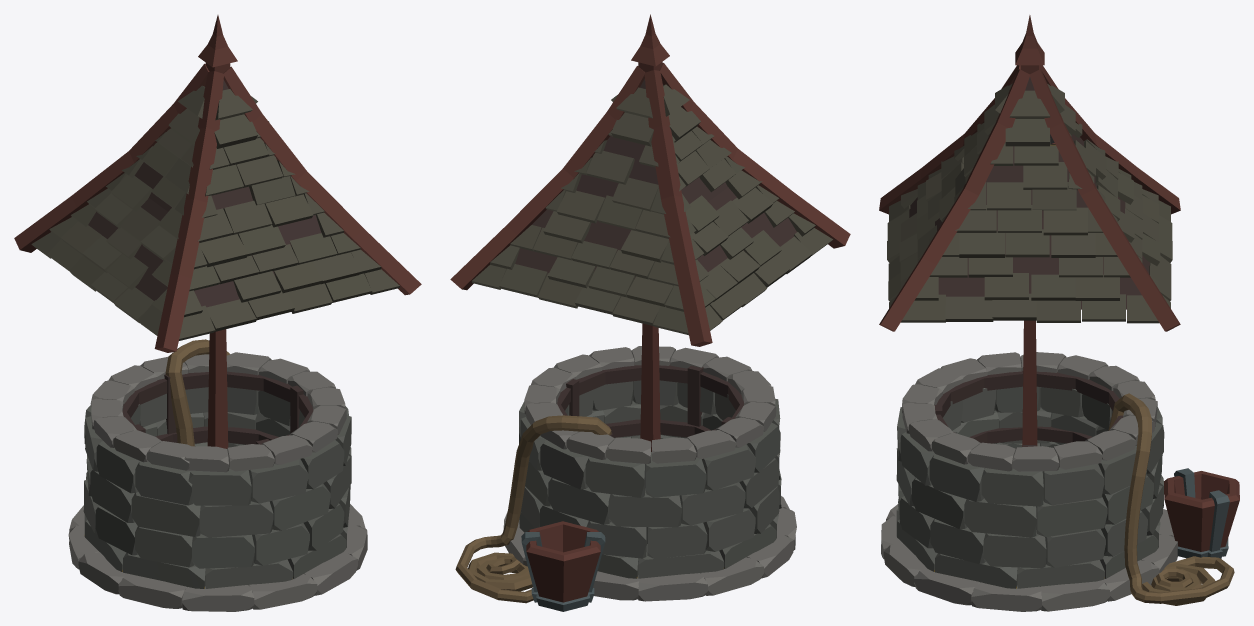
Rendered from stoneWell.fbx.
The picture shows the model from 3 angles, left to right: view 1: azimuth 30°, elevation 25°; view 2: azimuth 150°, elevation 25°; view 3: azimuth 270°, elevation 25°; orthographic projection.
Visible parts, largest first — view 1: Stonewell; view 2: Stonewell; view 3: Stonewell.
Boxes of the visible parts, left/top/right/bottom form: Stonewell: left=14, top=15, right=421, bottom=611; Stonewell: left=450, top=14, right=850, bottom=611; Stonewell: left=879, top=15, right=1239, bottom=611.
Bounding box in the file's own units: 2.98 × 5.88 × 3.57.
